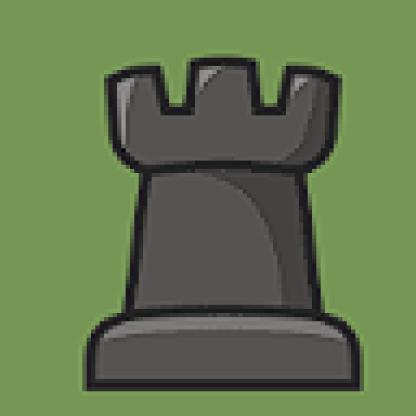Black Castle: (49, 30, 388, 403)
